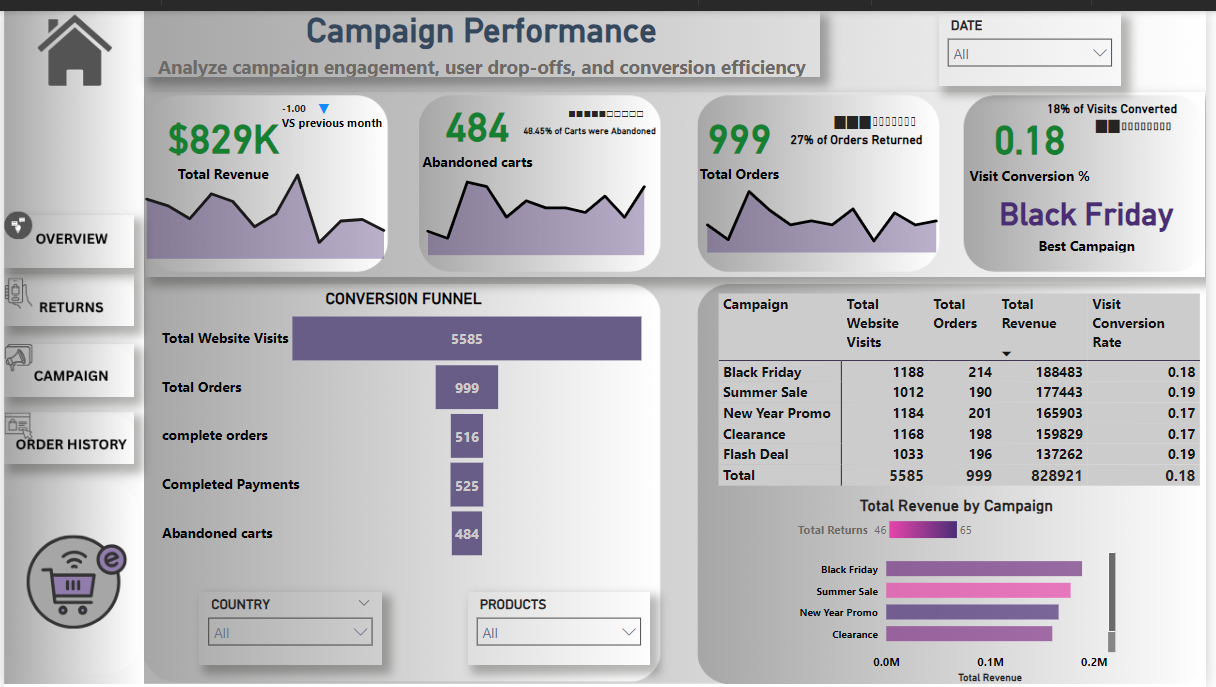

The page's visual inventory and layout, read from the dashboard file:
{"tool":"powerbi","page":{"name":"Campaign","canvas":[1280,720],"ordinal":2},"visuals":[{"type":"shape","box":[150.2,86.3,1129.6,196.5],"z":0},{"type":"card","title":"TOTAL REVENUE","fields":{"Values":["Fact.Total Revenue"]},"box":[138.3,78.3,188.3,126.7],"z":1000},{"type":"textbox","box":[148.3,0,1131.7,78.3],"z":2000},{"type":"lineChart","title":"Total Revenue by Month","fields":{"Y":["Fact.Overall Revenue"],"Category":["DimDate.Month Name"]},"box":[137.8,148.9,281.1,120],"z":3000},{"type":"multiRowCard","fields":{"Values":["DimLocation.Revenue MoM % Change"]},"box":[290,91.1,128.9,62.2],"z":4000},{"type":"card","title":"TOTAL REVENUE","fields":{"Values":["Fact.Total Orders"]},"box":[688.6,78.3,188.5,126.2],"z":5000},{"type":"card","title":"TOTAL REVENUE","fields":{"Values":["Fact.Abandoned carts"]},"box":[403.3,65.6,202.2,126.7],"z":6000},{"type":"card","title":"TOTAL REVENUE","fields":{"Values":["Conversion Funnel Table.Visit Conversion %"]},"box":[1014.5,89.5,155,107],"z":7000},{"type":"card","fields":{"Values":["DimLocation.Cart Abandonment Icons"]},"box":[567.2,91.1,147,38.3],"z":8000},{"type":"multiRowCard","fields":{"Values":["DimLocation.Cart Abandonment Subtext"]},"box":[547.8,116.7,153.3,32.2],"z":9000},{"type":"lineChart","title":"Total Revenue by Month","fields":{"Y":["Fact.Total Orders"],"Category":["DimDate.Month Name"]},"box":[734.9,156.6,271.6,105.4],"z":10000},{"type":"lineChart","title":"Total Revenue by Month","fields":{"Category":["DimDate.Month Name"],"Y":["Fact.Abandoned carts"]},"box":[437.8,145.4,257.2,119.8],"z":11000},{"type":"card","fields":{"Values":["Conversion Funnel Table.Return Rate Progress"]},"box":[824.4,94.3,206.1,49.5],"z":12000},{"type":"multiRowCard","fields":{"Values":["Conversion Funnel Table.Return Description"]},"box":[832.4,124.6,174.1,41.5],"z":13000},{"type":"slicer","fields":{"Values":["DimCampaign.Campaign"]},"box":[493.7,618.3,194.9,78.3],"z":14000},{"type":"slicer","fields":{"Values":["DimDate.Year","DimDate.Month "]},"box":[995.3,1.6,194.9,78.3],"z":15000},{"type":"textbox","title":"📣 Campaign Performance","box":[148.6,0,720.5,70.3],"z":16000},{"type":"actionButton","box":[0,0,140,92],"z":17000},{"type":"actionButton","box":[0,218,138,56],"z":18000},{"type":"actionButton","box":[0,280,138,56],"z":19000},{"type":"actionButton","box":[0,354,138,56],"z":20000},{"type":"actionButton","box":[0,426,138,56],"z":21000},{"type":"multiRowCard","fields":{"Values":["DimLocation.Revenue Trend Arrow"]},"box":[327.8,91.1,31.1,26.7],"z":22000},{"type":"card","fields":{"Values":["Conversion Funnel Table.Visit Conversion Progress"]},"box":[1126.4,94.3,153.4,59.1],"z":23000},{"type":"barChart","fields":{"Category":["DimCampaign.Campaign"],"Y":["Fact.Total Revenue"]},"box":[928.2,516,348.3,204.5],"z":24000},{"type":"funnel","title":"CONVERSI0N FUNNEL","fields":{"Y":["DimCustomer.Total Website Visits","Fact.Total Orders","Fact.complete orders","DimPaymentMethod.Completed Payments","Fact.Abandoned carts"]},"box":[163,295.6,525.6,294],"z":25000},{"type":"pivotTable","fields":{"Rows":["DimCampaign.Campaign"],"Values":["DimCustomer.Total Website Visits","Fact.Total Orders","Fact.Total Revenue","DimCustomer.Visit Conversion Rate"]},"box":[755.7,295.6,524,231.7],"z":26000},{"type":"slicer","fields":{"Values":["DimLocation.Country"]},"box":[207.7,618.3,194.9,78.3],"z":27000},{"type":"multiRowCard","fields":{"Values":["Conversion Funnel Table.Visit Conversion Label"]},"box":[1105.6,91.1,174.1,41.5],"z":28000},{"type":"card","title":"TOTAL REVENUE","fields":{"Values":["DimCampaign.Best Campaign"]},"box":[1030.5,183.7,244.4,78.3],"z":29000}]}

Visuals, with their boxes in screenshot pixels (x1, y1, x2, y2), scaled from the page's 1280x720 canvas onto the 1216x687 screenshot:
shape: box=[143, 82, 1215, 270]
"TOTAL REVENUE" card: box=[131, 75, 310, 196]
textbox: box=[141, 0, 1215, 75]
"Total Revenue by Month" lineChart: box=[131, 142, 398, 257]
multiRowCard - DimLocation.Revenue MoM % Change: box=[276, 87, 398, 146]
"TOTAL REVENUE" card: box=[654, 75, 833, 195]
"TOTAL REVENUE" card: box=[383, 63, 575, 183]
"TOTAL REVENUE" card: box=[964, 85, 1111, 187]
card - DimLocation.Cart Abandonment Icons: box=[539, 87, 678, 123]
multiRowCard - DimLocation.Cart Abandonment Subtext: box=[520, 111, 666, 142]
"Total Revenue by Month" lineChart: box=[698, 149, 956, 250]
"Total Revenue by Month" lineChart: box=[416, 139, 660, 253]
card - Conversion Funnel Table.Return Rate Progress: box=[783, 90, 979, 137]
multiRowCard - Conversion Funnel Table.Return Description: box=[791, 119, 956, 158]
slicer - DimCampaign.Campaign: box=[469, 590, 654, 665]
slicer - DimDate.Year x DimDate.Month : box=[946, 2, 1131, 76]
"📣 Campaign Performance" textbox: box=[141, 0, 826, 67]
actionButton: box=[0, 0, 133, 88]
actionButton: box=[0, 208, 131, 261]
actionButton: box=[0, 267, 131, 321]
actionButton: box=[0, 338, 131, 391]
actionButton: box=[0, 406, 131, 460]
multiRowCard - DimLocation.Revenue Trend Arrow: box=[311, 87, 341, 112]
card - Conversion Funnel Table.Visit Conversion Progress: box=[1070, 90, 1215, 146]
barChart - DimCampaign.Campaign x Fact.Total Revenue: box=[882, 492, 1213, 686]
"CONVERSI0N FUNNEL" funnel: box=[155, 282, 654, 563]
pivotTable - DimCampaign.Campaign x DimCustomer.Total Website Visits: box=[718, 282, 1215, 503]
slicer - DimLocation.Country: box=[197, 590, 382, 665]
multiRowCard - Conversion Funnel Table.Visit Conversion Label: box=[1050, 87, 1215, 127]
"TOTAL REVENUE" card: box=[979, 175, 1211, 250]
